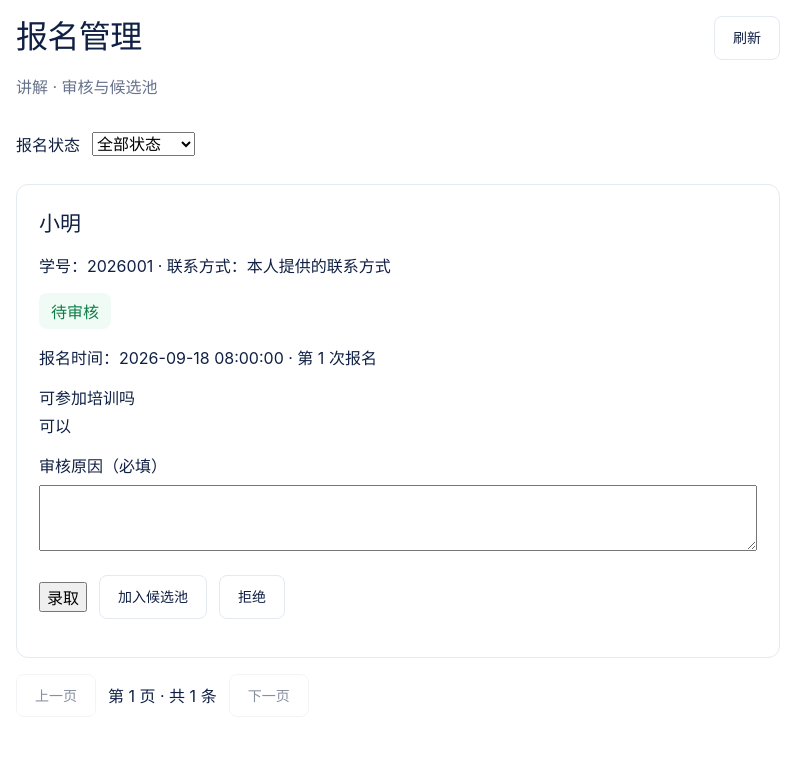
it: RegistrationManagementView › preserves failed reasons, prevents duplicate requests, and refreshes after conflict
The image size is (797, 782).
Type "保留这个原因" into the text box labelled "审核原因（必填）" at (398, 518), box [39,485,757,551]
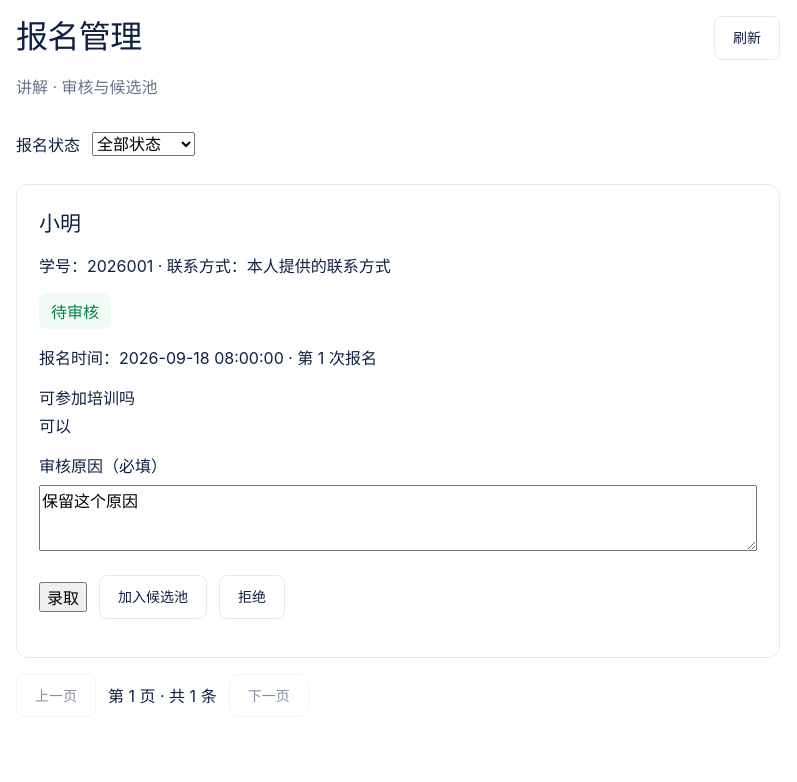
Click the button with test id "confirm" at (63, 597), box [39,582,87,612]
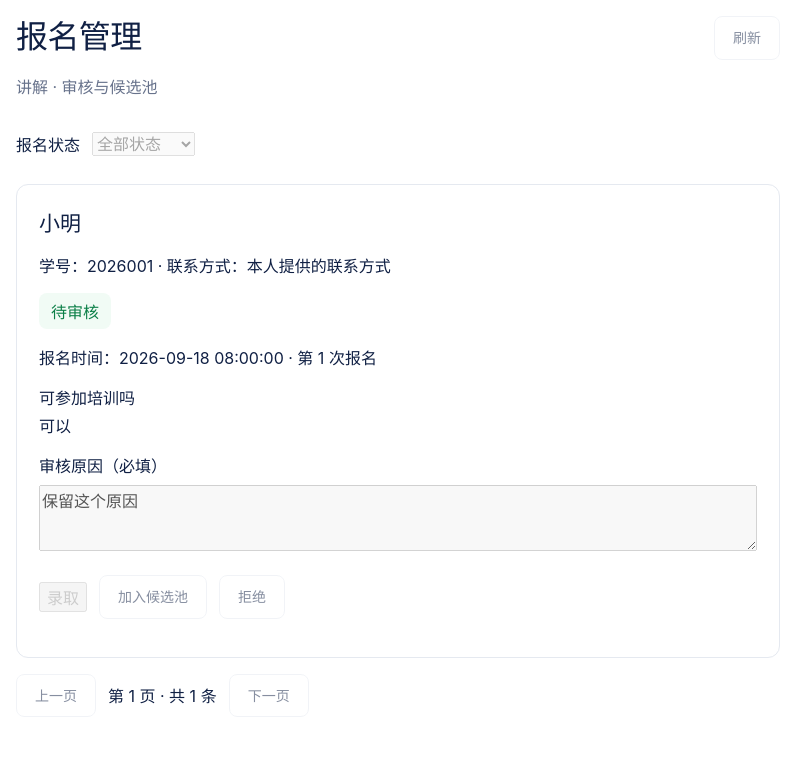
Click the button with test id "reject" at (252, 597), box [219,575,285,619]
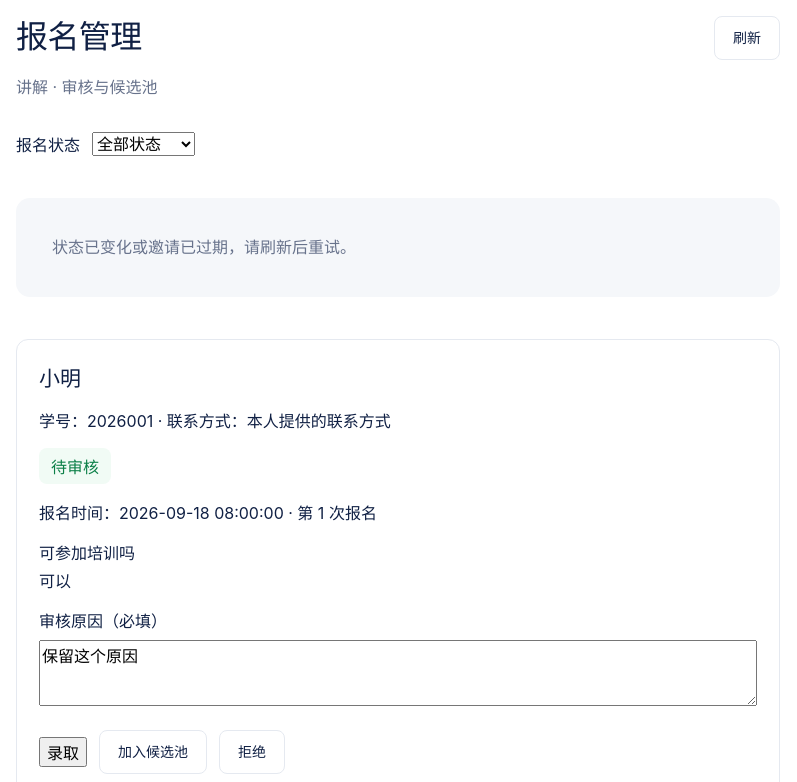
Expected: the text box labelled "审核原因（必填）" holds "保留这个原因", [39,640,757,706]
Expected: the message "状态已变化或邀请已过期，请刷新后重试。" is shown, [16,198,780,297]
